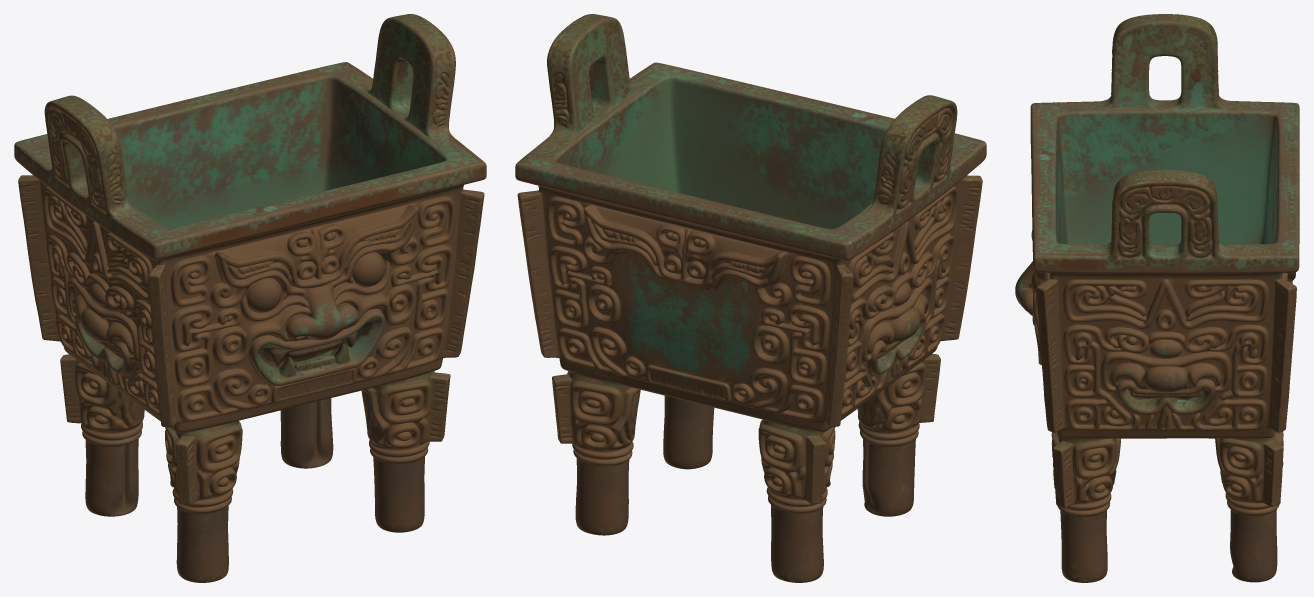
3 views of the same model, side by side, from view 1: azimuth 30°, elevation 25°; view 2: azimuth 150°, elevation 25°; view 3: azimuth 270°, elevation 25° (orthographic). The views are drawn at different scales.
Visible parts, largest first — view 1: texture_pbr_v128; view 2: texture_pbr_v128; view 3: texture_pbr_v128.
Part boxes in pixels (bbox=[...]): texture_pbr_v128: bbox=[14, 14, 486, 582]; texture_pbr_v128: bbox=[515, 14, 986, 582]; texture_pbr_v128: bbox=[1015, 14, 1299, 582].
Size of the model in its own units: 0.7775 by 0.9259 by 0.5563.
1 material, 1 textured.
